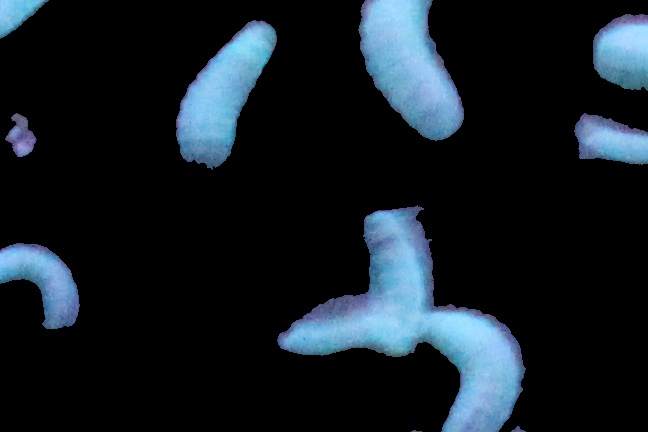larvae: (178, 23, 277, 174), (422, 304, 534, 432), (362, 1, 462, 142), (364, 211, 423, 357), (1, 240, 78, 330), (584, 12, 648, 103), (571, 110, 648, 183), (281, 310, 366, 355)
